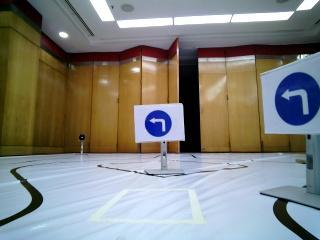left: (266, 71, 320, 124), (144, 110, 177, 137)
